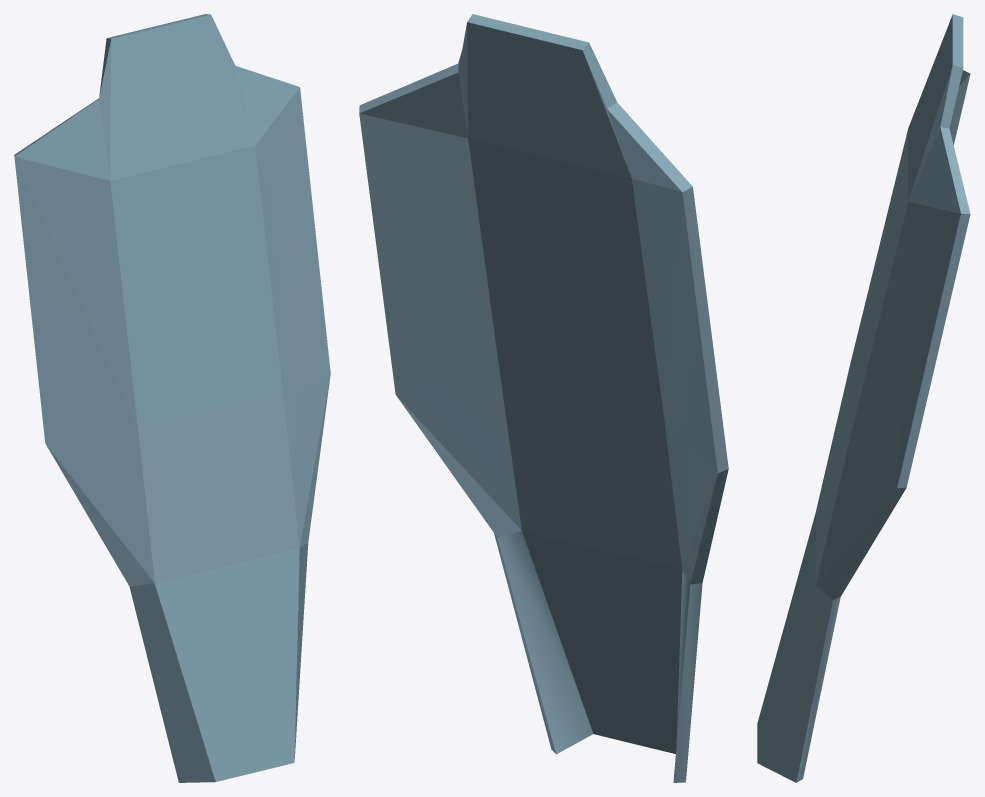
The model's file is CryoGlassTwoSided.fbx.
3 renders of one model, left to right at view 1: azimuth 30°, elevation 25°; view 2: azimuth 150°, elevation 25°; view 3: azimuth 270°, elevation 25°, orthographic. The views are drawn at different scales.
Parts seen in each view (by area): view 1: FrozenCryoGlass1; view 2: FrozenCryoGlass1; view 3: FrozenCryoGlass1.
Boxes of the visible parts, box(x1,y1,x2,y2) form: FrozenCryoGlass1: box(14, 14, 330, 782); FrozenCryoGlass1: box(359, 14, 728, 782); FrozenCryoGlass1: box(757, 14, 970, 782).
Size of the model in its own units: 91.49 by 210 by 56.88.
